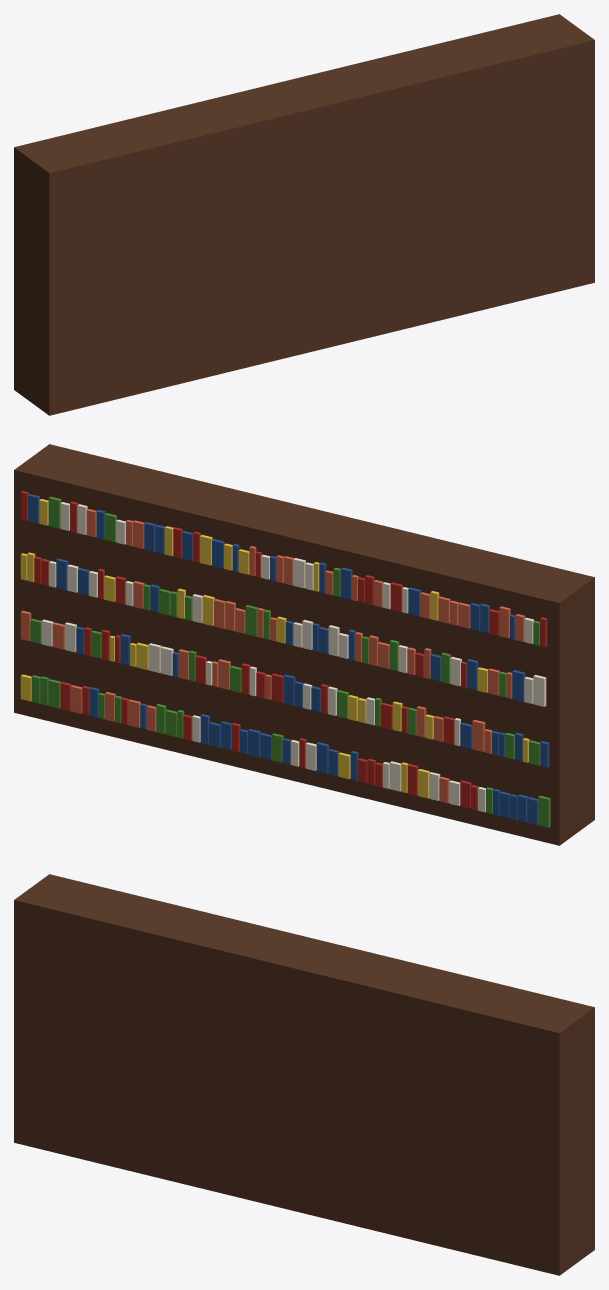
The model's file is canned.glb.
3 views of the same model, one above another, from view 1: azimuth 30°, elevation 25°; view 2: azimuth 150°, elevation 25°; view 3: azimuth 330°, elevation 25° (orthographic).
Parts seen in each view (by area): view 1: Box1; view 2: Box1; view 3: Box1.
Part boxes in pixels (x1,y1,x2,y2): Box1: (14,14,594,415); Box1: (14,444,594,845); Box1: (14,874,594,1275).
Bounding box in the file's own units: 4 × 1.7 × 0.475.
